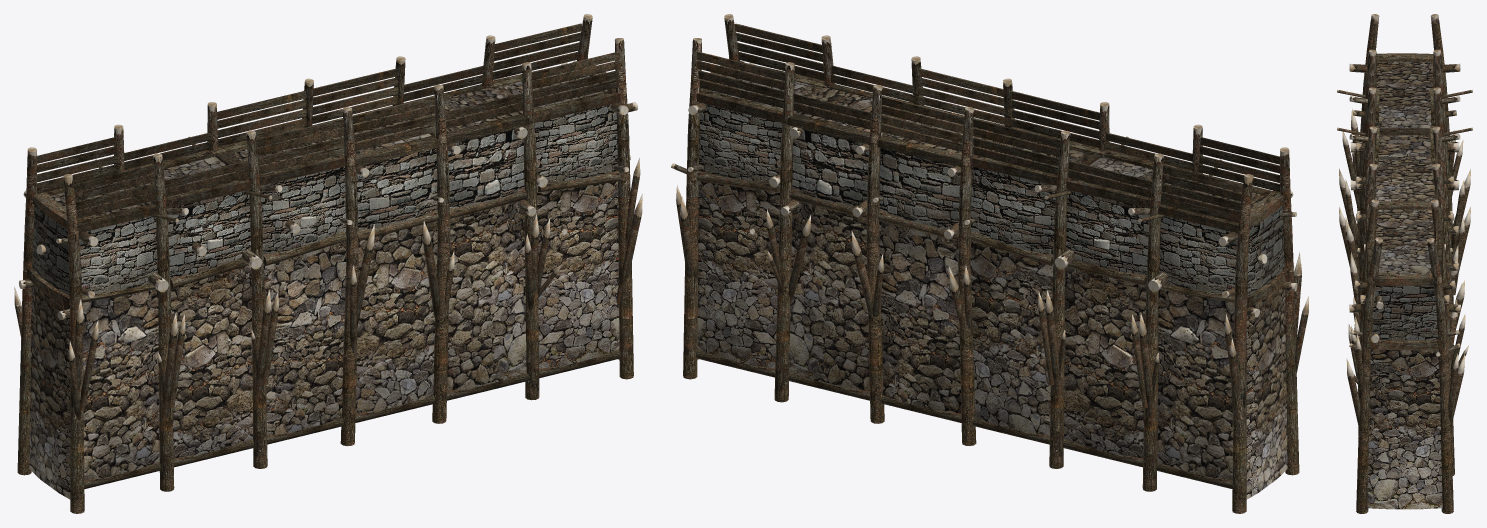
File: gaul_wall_segment.glb
3 renders of one model, left to right at view 1: azimuth 30°, elevation 25°; view 2: azimuth 150°, elevation 25°; view 3: azimuth 270°, elevation 25°, orthographic. The views are drawn at different scales.
Parts seen in each view (by area): view 1: gaul_wall_segment_part0; view 2: gaul_wall_segment_part0; view 3: gaul_wall_segment_part0.
Part boxes in pixels (x1=…): gaul_wall_segment_part0: x1=14, y1=14, x2=642, y2=513; gaul_wall_segment_part0: x1=671, y1=14, x2=1308, y2=513; gaul_wall_segment_part0: x1=1337, y1=14, x2=1472, y2=513.
Size of the model in its own units: 2 by 1.07 by 0.484.
Materials: 1 (1 with a texture image).
